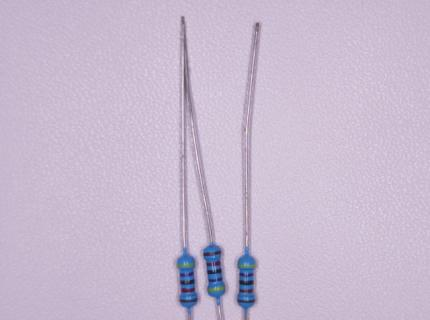Black band: (180, 279, 195, 285), (207, 269, 221, 274), (239, 280, 253, 285)
Brown band: (179, 298, 198, 303), (203, 251, 222, 256), (237, 299, 255, 303)
Red band: (206, 261, 221, 267), (181, 287, 195, 293), (239, 289, 254, 293)
Violet band: (180, 272, 194, 277), (209, 277, 223, 282), (240, 272, 254, 276)
Yellow band: (208, 286, 226, 292), (177, 263, 195, 268), (238, 263, 256, 268)
